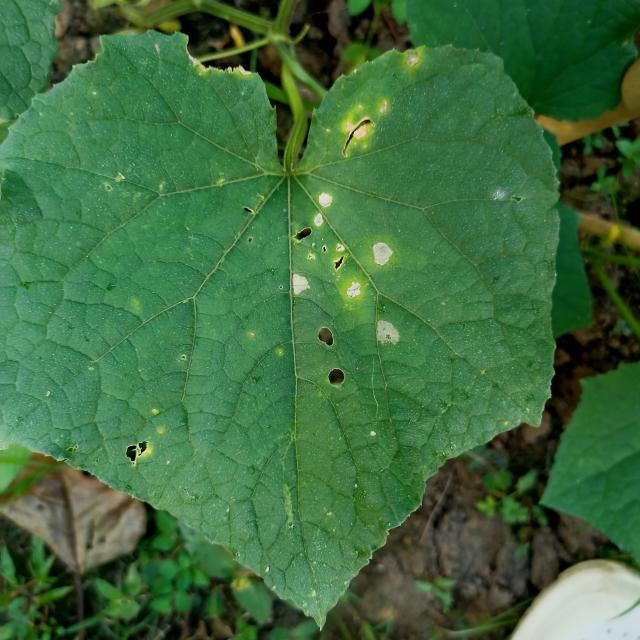disease_cucumber: (283, 185, 414, 351)
